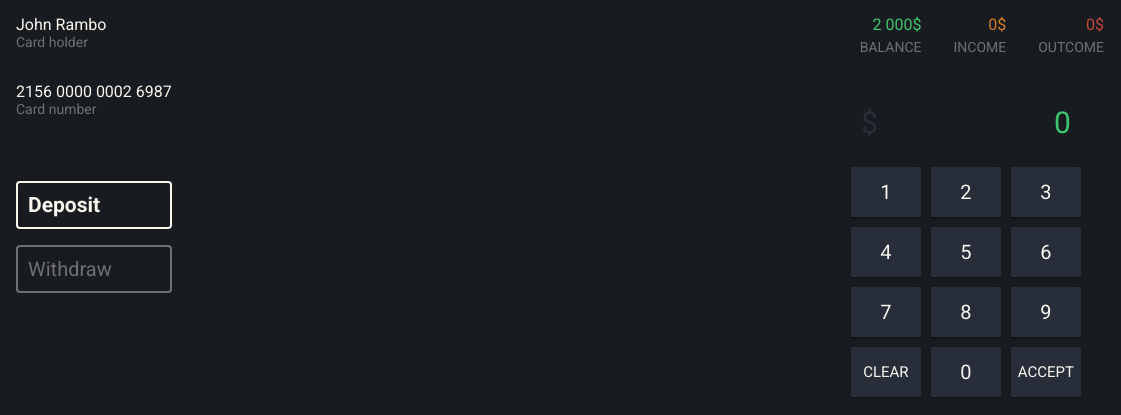
Test case: Simple tests › clear button
Expected: the button with test id "atm-button-clear" is shown, [851, 347, 921, 397]
Expected: the text with test id "atm-screen" is shown, [1054, 104, 1071, 140]
Click the button with test id "atm-button-3". click: [1046, 192]
box: [1011, 167, 1081, 217]
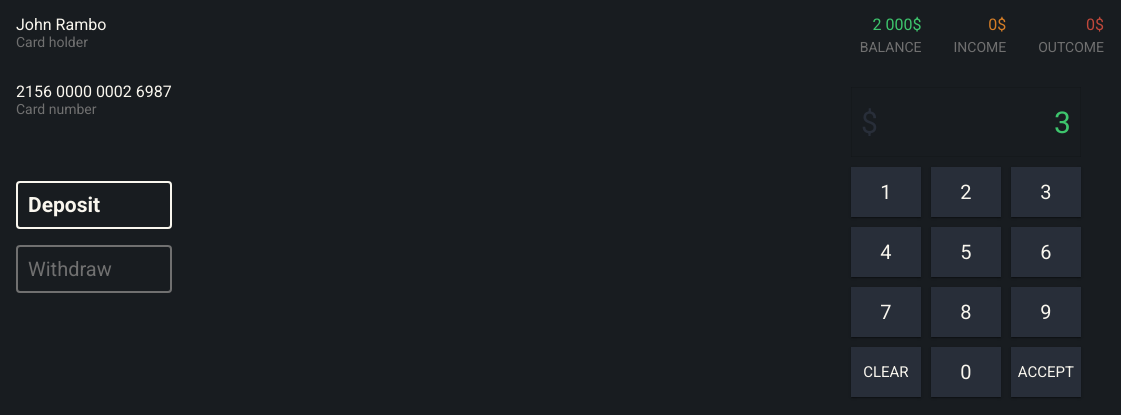
Click the button with test id "atm-button-4". click: [886, 252]
box: [851, 227, 921, 277]
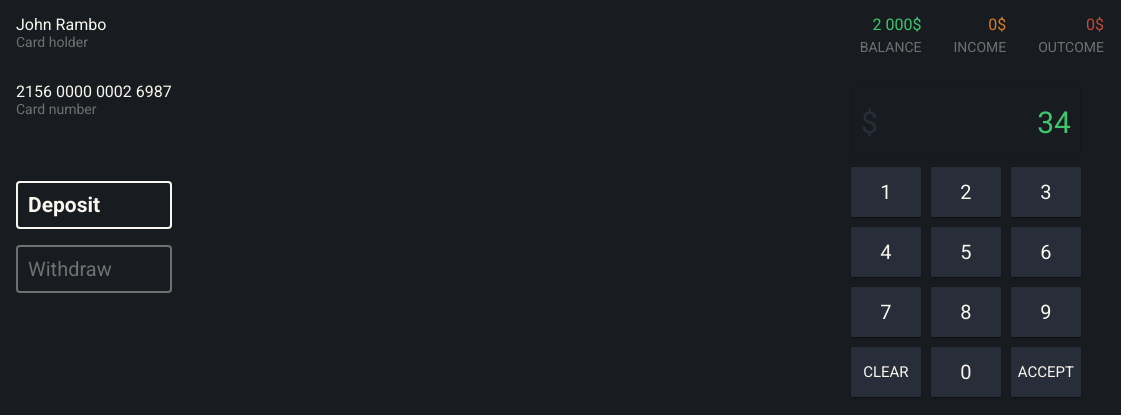
Click the button with test id "atm-button-5". click: [966, 252]
box: [931, 227, 1001, 277]
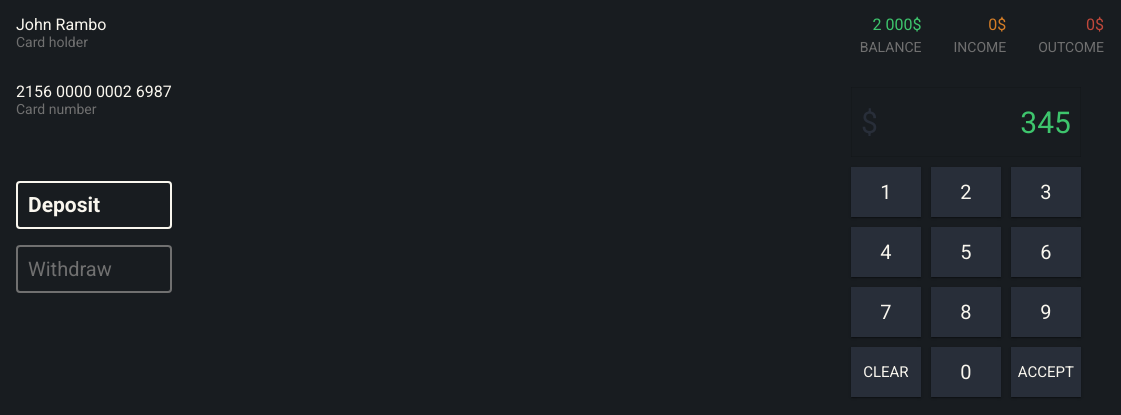
Expected: the text with test id "atm-screen" reads "345", [1020, 104, 1071, 140]
Click the button with test id "atm-button-clear". click: [886, 372]
box: [851, 347, 921, 397]
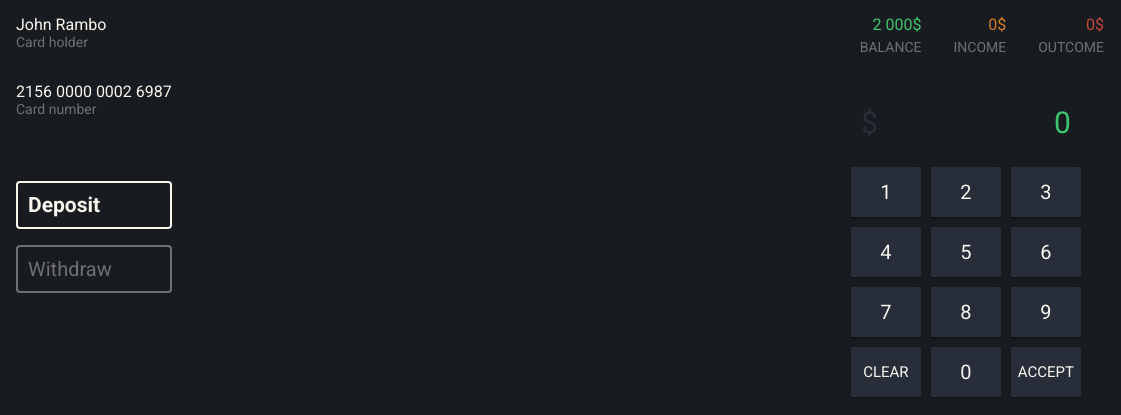
Expected: the text with test id "atm-screen" reads "0", [1054, 104, 1071, 140]
